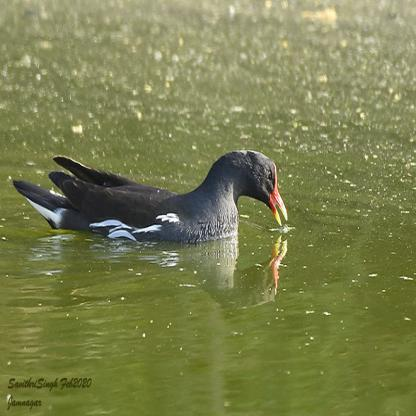Burung: (12, 149, 287, 246)
